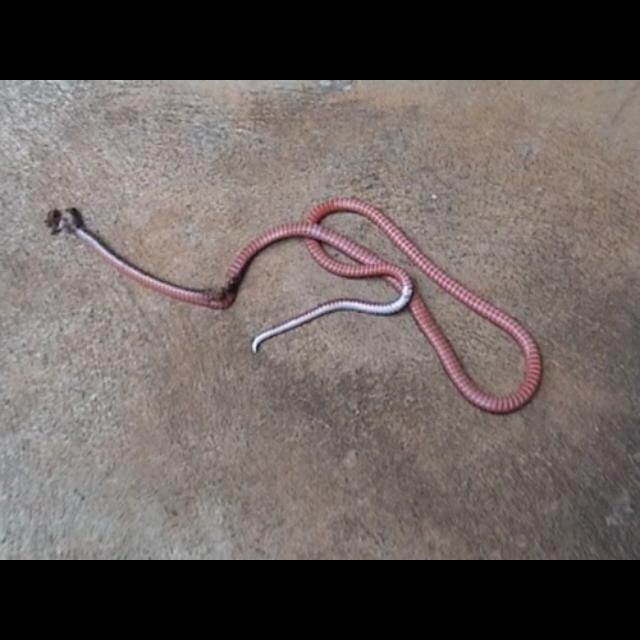snake: (39, 186, 546, 428)
